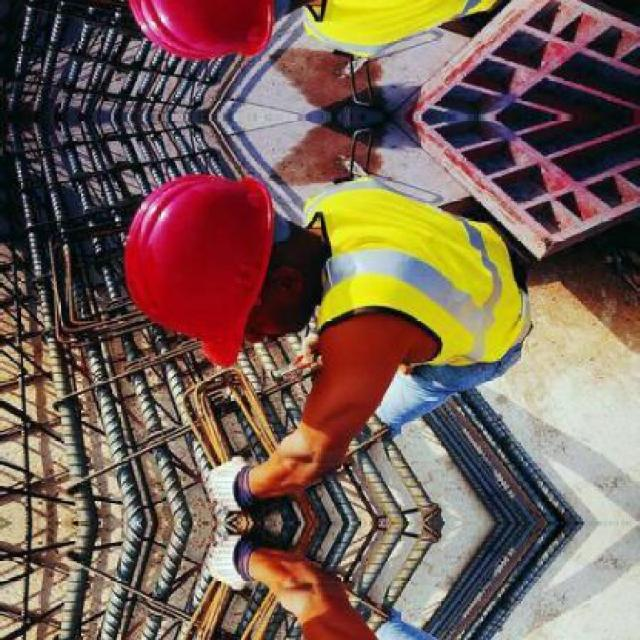Reflective-Jacket: (298, 178, 532, 376), (297, 0, 537, 60)
Safety-Helmet: (113, 164, 284, 373), (294, 0, 515, 63)
